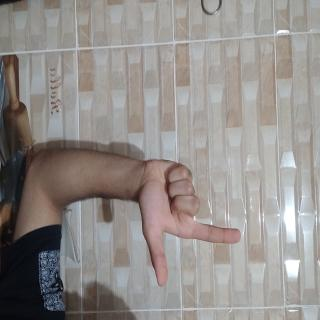LAAM: (115, 100, 218, 246)
